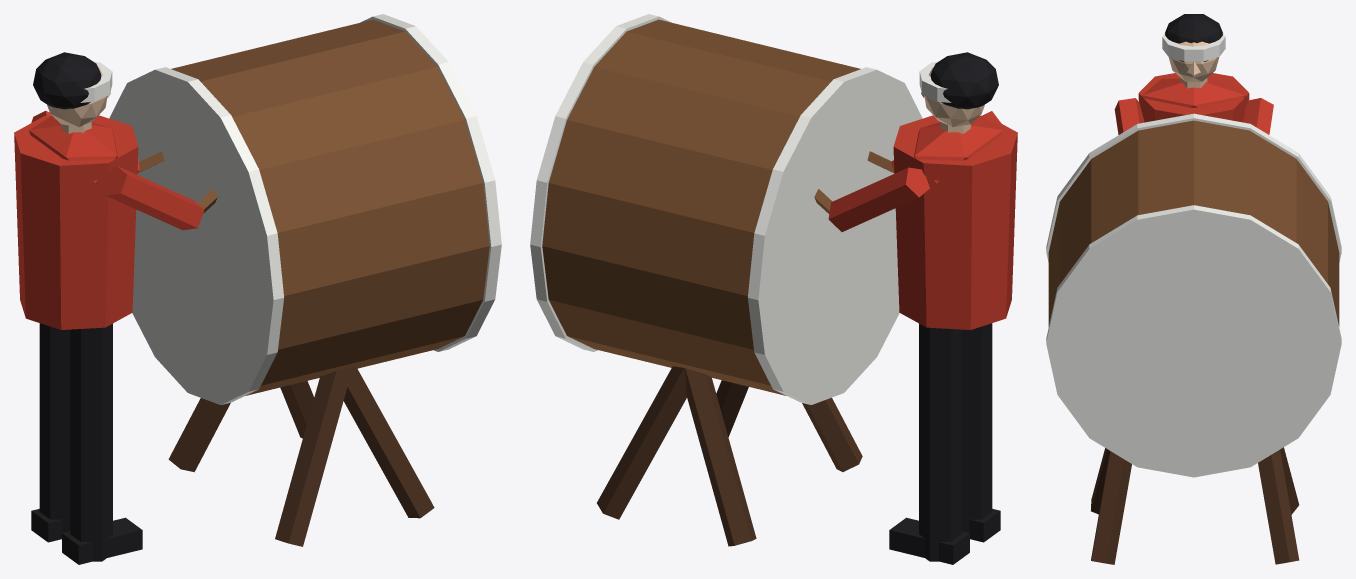
Rendered from taiko.glb.
The picture shows the model from 3 angles, left to right: view 1: azimuth 30°, elevation 25°; view 2: azimuth 150°, elevation 25°; view 3: azimuth 270°, elevation 25°; orthographic projection. The views are drawn at different scales.
Parts seen in each view (by area): view 1: Trumma, ArmV; view 2: Trumma, ArmH; view 3: Trumma, ArmH, ArmV.
Boxes of the visible parts, x1,y1,x2,y2 form: Trumma: [14, 14, 501, 564]; ArmV: [103, 165, 217, 230]; Trumma: [530, 14, 1017, 564]; ArmH: [814, 167, 929, 231]; Trumma: [1046, 14, 1341, 564]; ArmH: [1243, 98, 1273, 134]; ArmV: [1114, 98, 1144, 134].
Size of the model in its own units: 1.49 by 1.78 by 1.12.
